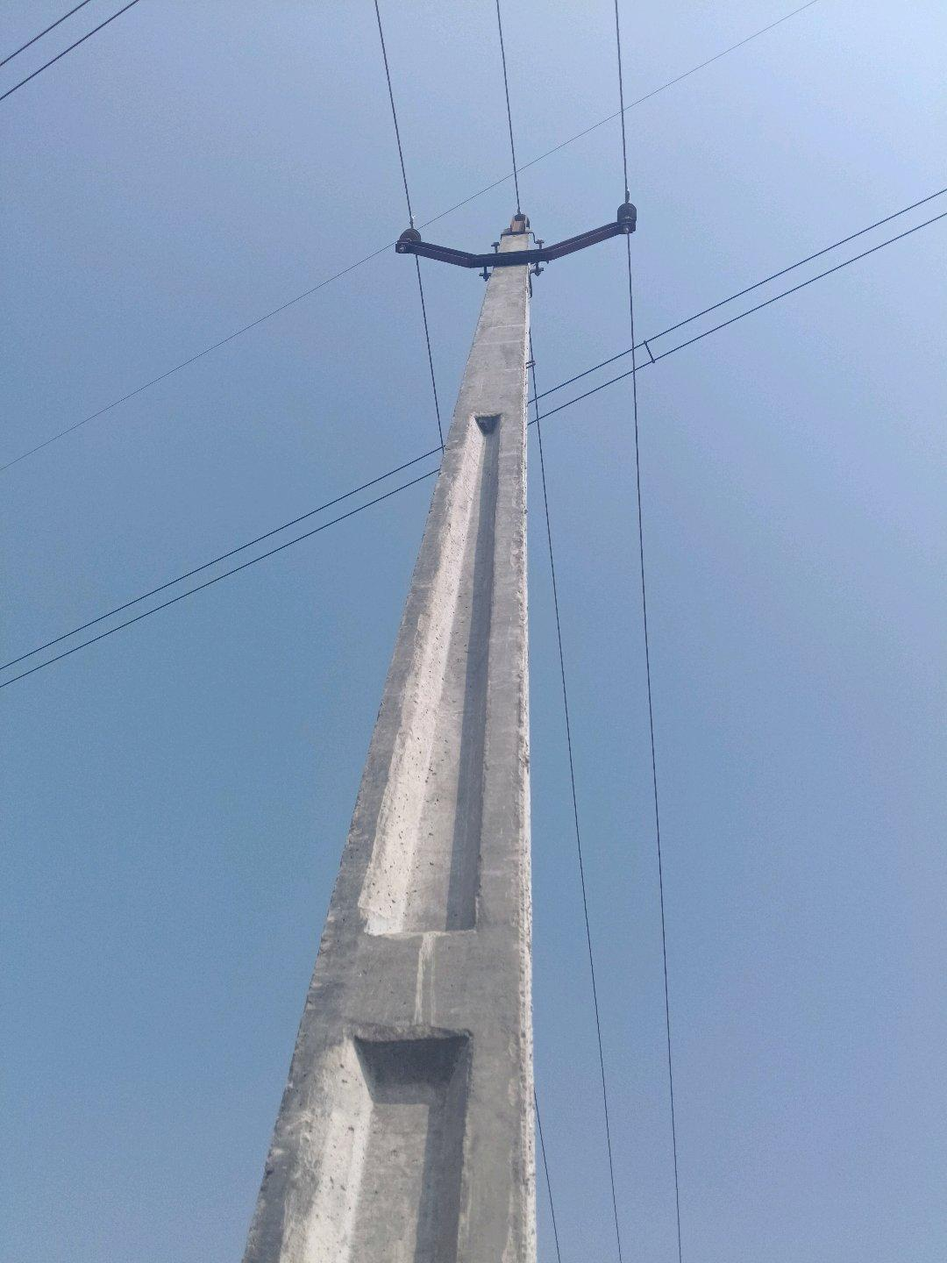{"0" "insulator", "1" "pole", "2" "crossarm", "3" "conductor", "4" "street_: (246, 37, 636, 1262), (500, 40, 512, 128), (628, 270, 632, 292), (510, 139, 515, 150), (509, 134, 512, 139), (629, 259, 630, 267)
